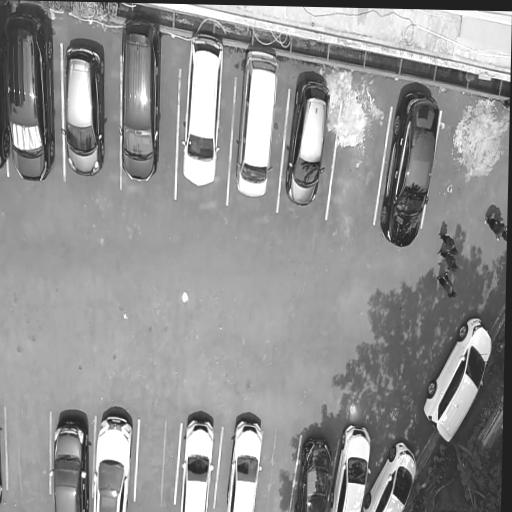Car: (375, 85, 441, 255), (110, 10, 169, 200), (0, 0, 59, 189), (420, 306, 494, 448), (230, 44, 283, 205), (58, 29, 108, 191), (176, 33, 226, 194), (282, 76, 332, 216), (50, 406, 92, 512), (370, 431, 422, 512), (94, 412, 135, 512), (224, 413, 265, 512), (178, 412, 216, 512), (330, 427, 373, 512), (297, 427, 335, 512), (0, 398, 3, 512)
Space Available: (337, 82, 380, 226), (7, 399, 50, 511), (138, 409, 177, 512), (262, 429, 293, 512)
